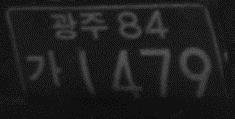1: (75, 47, 99, 98)
4: (109, 48, 144, 100), (142, 10, 171, 41)
7: (139, 46, 172, 101)
8: (116, 10, 142, 40)
9: (177, 44, 213, 105)
가: (25, 47, 63, 92)
광주_O: (48, 10, 109, 41)
